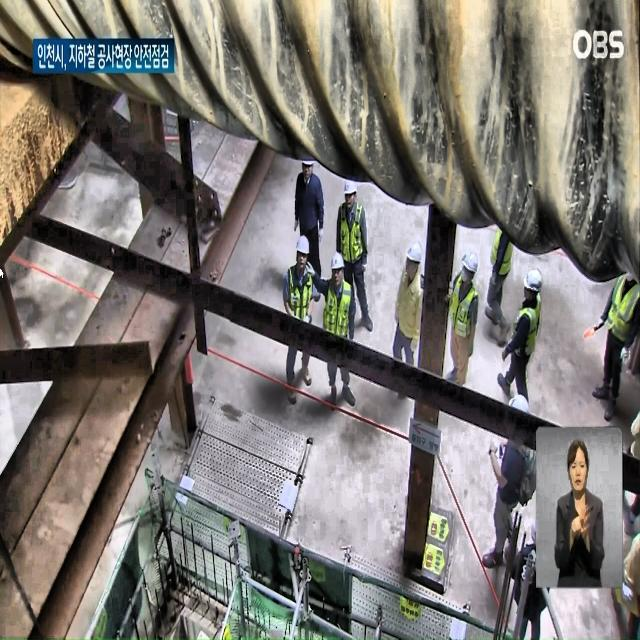safety_helmet: (461, 243, 487, 281), (404, 232, 426, 271), (524, 266, 546, 297), (346, 172, 360, 210), (296, 233, 314, 257)
safety_jacket: (288, 263, 329, 354), (320, 278, 354, 344), (444, 271, 470, 353), (606, 266, 632, 348), (336, 202, 368, 264), (512, 304, 537, 369), (488, 236, 512, 283)
